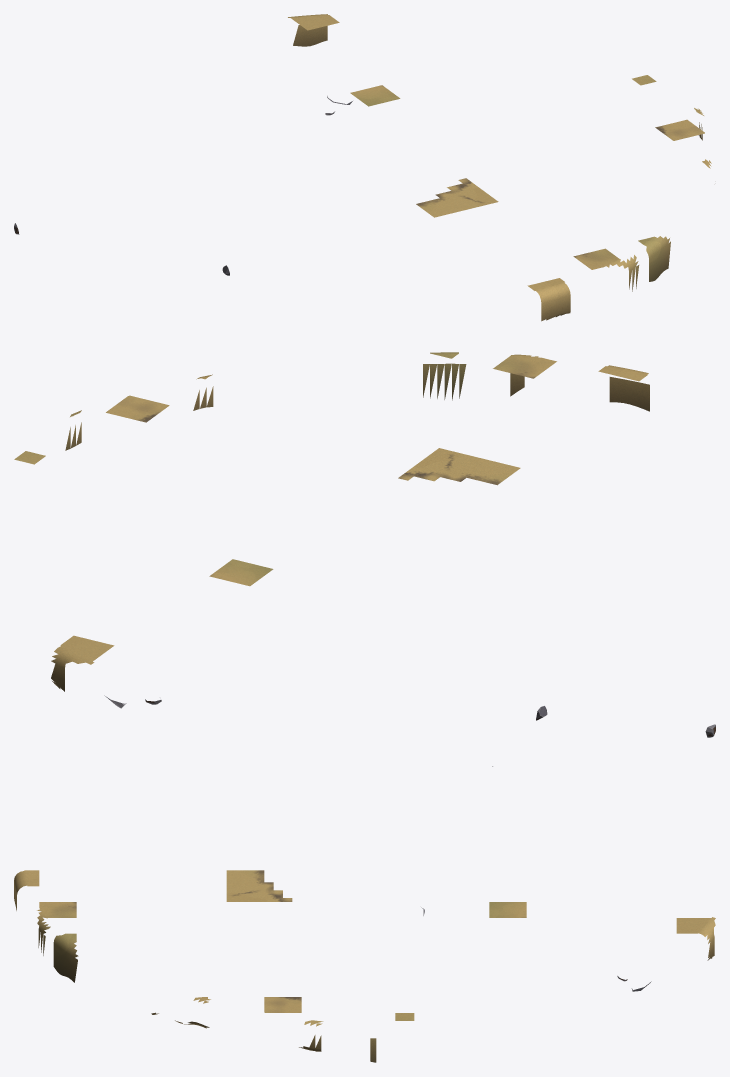
The picture shows the model from 3 angles, top to bottom: view 1: azimuth 30°, elevation 25°; view 2: azimuth 150°, elevation 25°; view 3: azimuth 270°, elevation 25°; orthographic projection. The views are drawn at different scales.
Parts seen in each view (by area): view 1: Grass_0_-2_0, Grass_0_-5_0_000, Grass_1_4_0_100, Grass_2_-5_0_010, Grass_1_-5_0_010, Grass_1_1_0_010, Grass_4_-2_0_010; view 2: Grass_0_-2_0, Grass_0_-5_0_000, Grass_1_4_0_100, Grass_1_-5_0_010, Grass_2_-5_0_010, Grass_1_1_0_010, Grass_4_-2_0_010; view 3: Grass_0_-2_0, Grass_2_-5_0_010, Grass_1_4_0_100, Grass_1_-5_0_010, Grass_1_1_0_010, Grass_4_-2_0_010, Grass_0_-5_0_000.
Boxes of the visible parts, x1,y1,x2,y2 form: Grass_0_-2_0: (416, 178, 498, 217); Grass_0_-5_0_000: (527, 278, 570, 321); Grass_1_4_0_100: (288, 14, 339, 46); Grass_2_-5_0_010: (638, 236, 670, 281); Grass_1_-5_0_010: (573, 248, 623, 269); Grass_1_1_0_010: (350, 85, 400, 106); Grass_4_-2_0_010: (655, 119, 704, 140); Grass_0_-2_0: (398, 448, 520, 485); Grass_0_-5_0_000: (598, 365, 649, 411); Grass_1_4_0_100: (51, 635, 114, 691); Grass_1_-5_0_010: (493, 354, 556, 396); Grass_2_-5_0_010: (423, 352, 466, 400); Grass_1_1_0_010: (209, 559, 273, 586); Grass_4_-2_0_010: (106, 395, 169, 422); Grass_0_-2_0: (226, 870, 292, 901); Grass_2_-5_0_010: (53, 933, 78, 982); Grass_1_4_0_100: (676, 917, 715, 960); Grass_1_-5_0_010: (37, 902, 76, 919); Grass_1_1_0_010: (489, 902, 526, 917); Grass_4_-2_0_010: (264, 997, 301, 1012); Grass_0_-5_0_000: (14, 870, 39, 910).
Size of the model in its own units: 604 by 96.06 by 599.
Materials: 16 (16 with a texture image).
